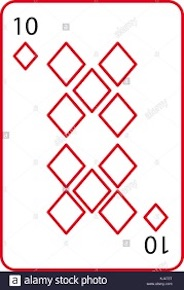TenOfDiamonds: (1, 3, 181, 266)
